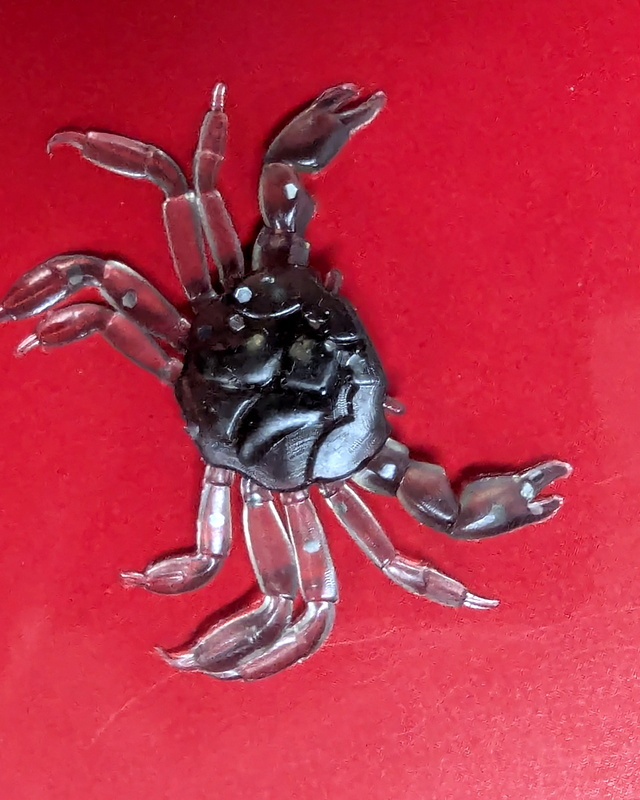crab1: (1, 79, 576, 684)
